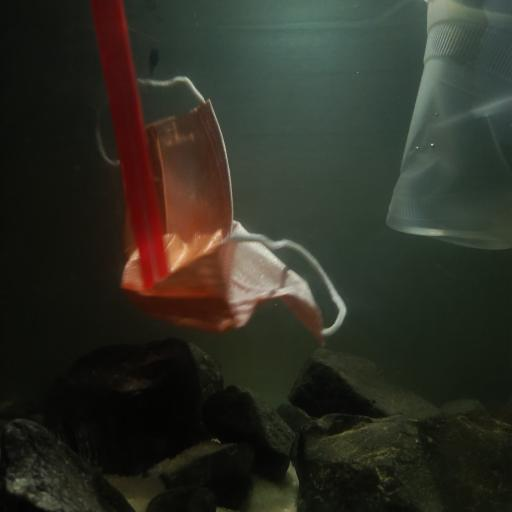mask: (88, 74, 350, 336)
plastic_cup: (382, 0, 512, 252)
plastic_straw: (87, 0, 173, 290)
